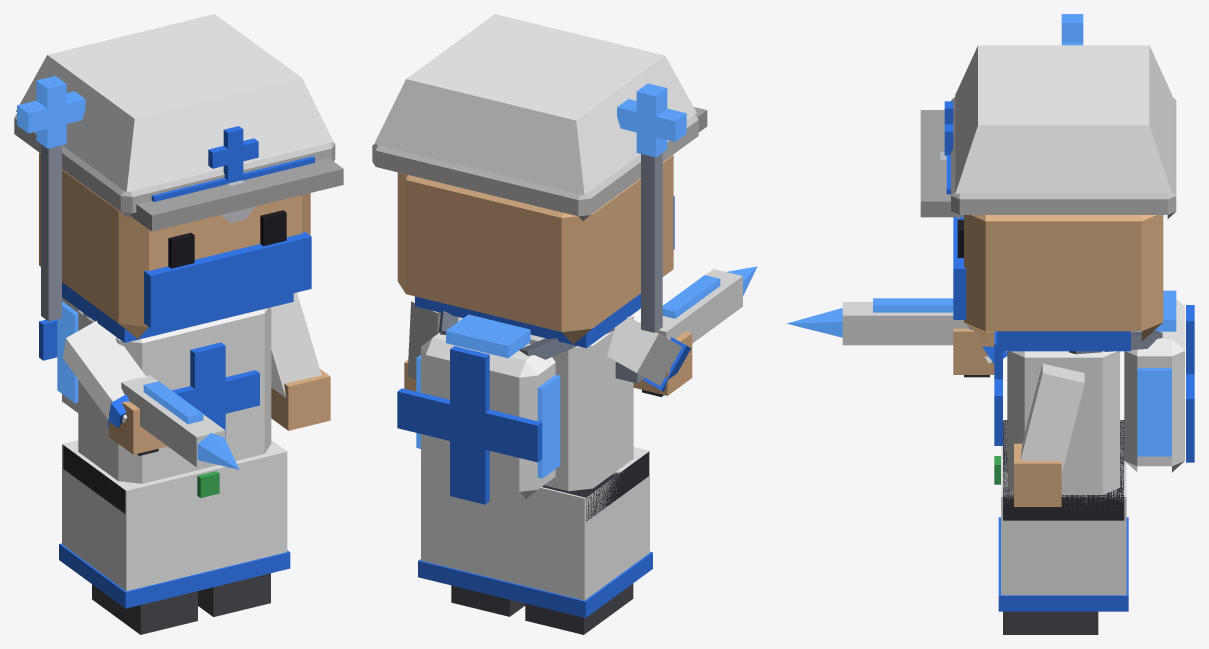
File: medic_super_rare.glb
3 views of the same model, side by side, from view 1: azimuth 30°, elevation 25°; view 2: azimuth 150°, elevation 25°; view 3: azimuth 270°, elevation 25° (orthographic). The views are drawn at different scales.
Parts seen in each view (by area): view 1: medic_super_rare_mesh; view 2: medic_super_rare_mesh; view 3: medic_super_rare_mesh.
Part boxes in pixels (x1=…): medic_super_rare_mesh: x1=14, y1=14, x2=343, y2=634; medic_super_rare_mesh: x1=372, y1=14, x2=757, y2=634; medic_super_rare_mesh: x1=787, y1=14, x2=1194, y2=634.
Size of the model in its own units: 0.7007 by 1.3 by 0.9105.
Materials: 2 (2 with a texture image).
